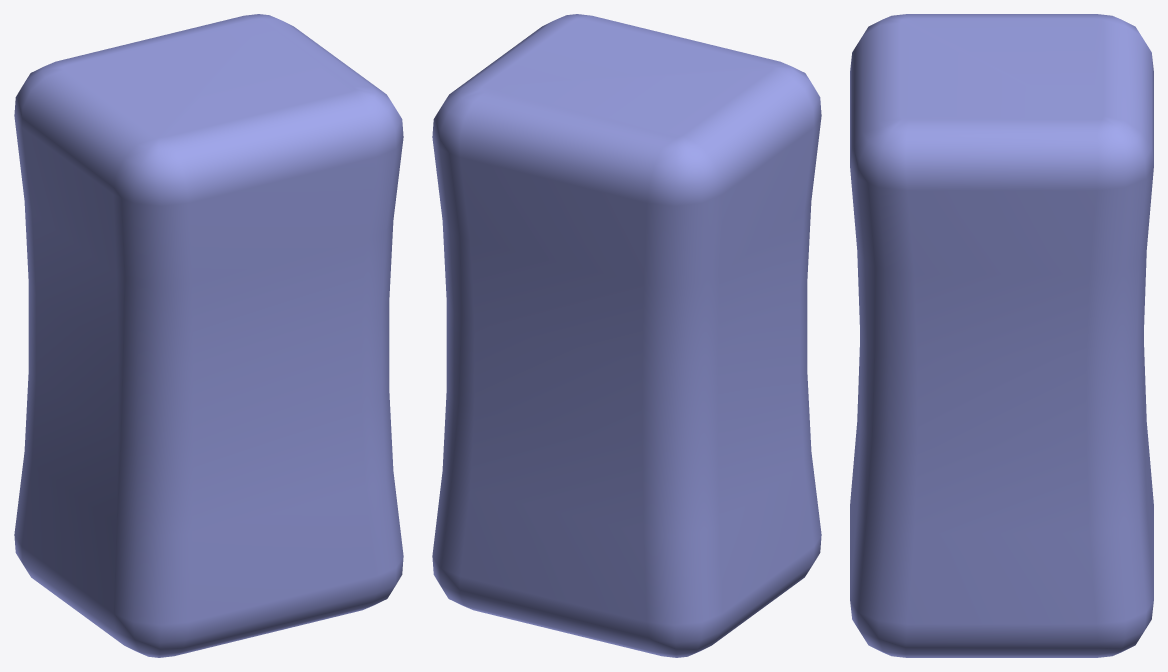
Rendered from SM_Building_01.fbx.
The picture shows the model from 3 angles, left to right: view 1: azimuth 30°, elevation 25°; view 2: azimuth 150°, elevation 25°; view 3: azimuth 270°, elevation 25°; orthographic projection. The views are drawn at different scales.
Parts seen in each view (by area): view 1: SM_Building_01; view 2: SM_Building_01; view 3: SM_Building_01.
Boxes of the visible parts, x1,y1,x2,y2 form: SM_Building_01: [14, 14, 403, 657]; SM_Building_01: [432, 14, 821, 657]; SM_Building_01: [850, 14, 1153, 657].
Size of the model in its own units: 4272 by 7433 by 3842.
